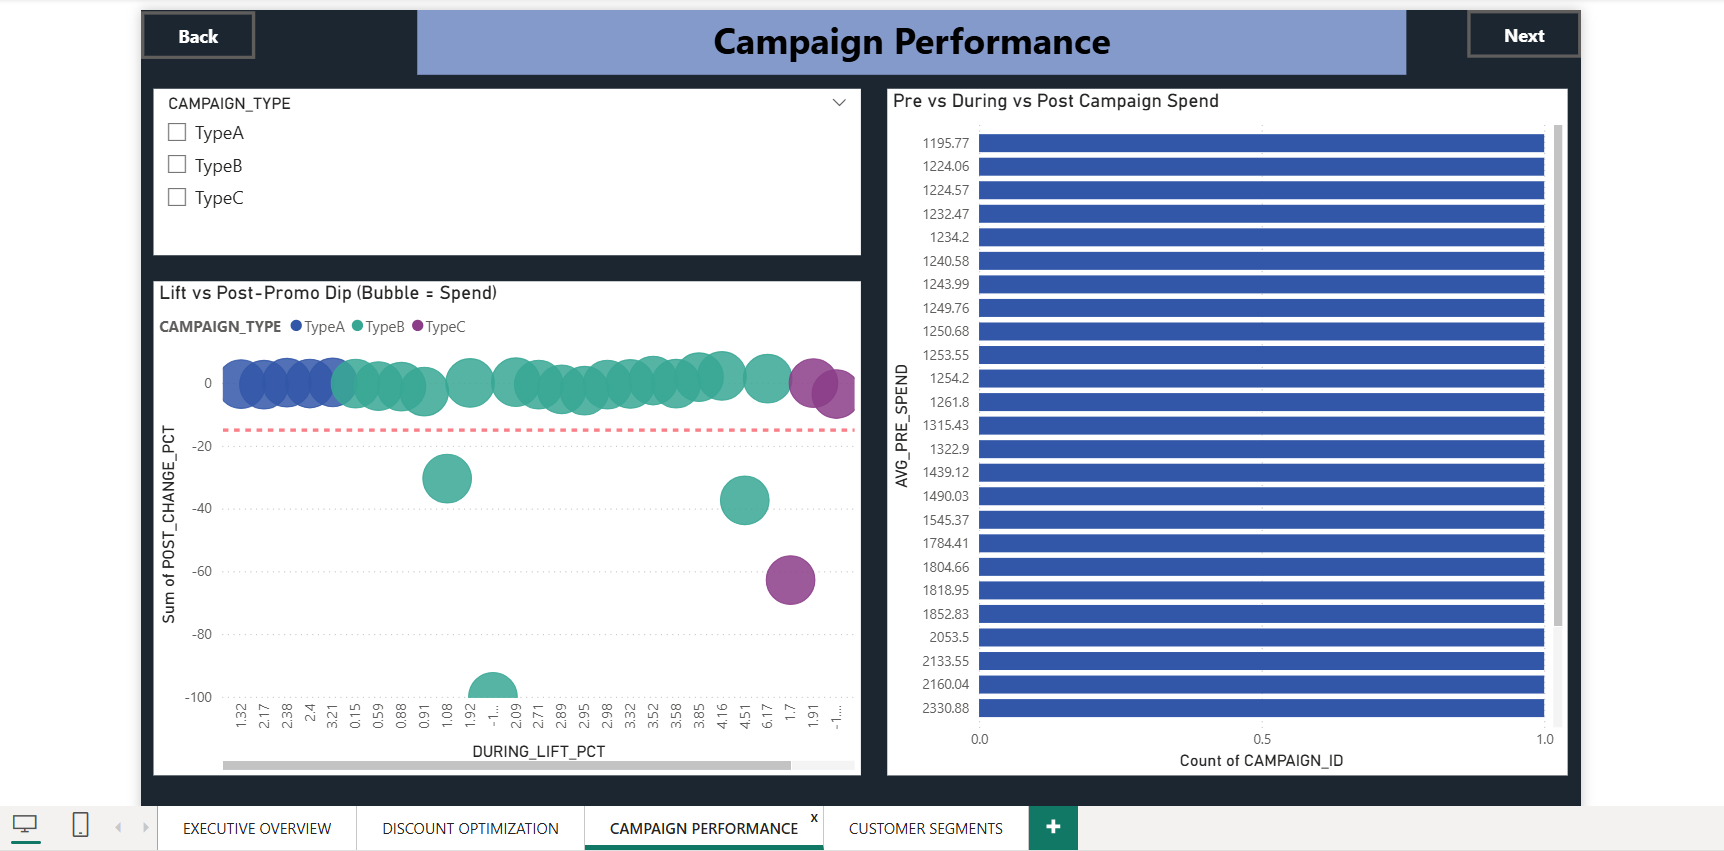

The dashboard page shown, as its layout file describes it:
{"tool":"powerbi","page":{"name":"CAMPAIGN PERFORMANCE","canvas":[1280,720],"ordinal":2},"visuals":[{"type":"clusteredBarChart","title":"Pre vs During vs Post Campaign Spend","fields":{"Y":["CountNonNull(mart_pantry_loading.CAMPAIGN_ID)"],"Category":["mart_pantry_loading.AVG_PRE_SPEND","mart_pantry_loading.AVG_DURING_SPEND","mart_pantry_loading.AVG_POST_SPEND"]},"box":[662.8,70,605.1,610.6],"z":0},{"type":"scatterChart","title":"Lift vs Post-Promo Dip (Bubble = Spend)","fields":{"X":["mart_pantry_loading.DURING_LIFT_PCT"],"Y":["Sum(mart_pantry_loading.POST_CHANGE_PCT)"],"Series":["mart_pantry_loading.CAMPAIGN_TYPE"],"Size":["CountNonNull(mart_pantry_loading.AVG_DURING_SPEND)"]},"box":[11,241.5,628.5,439.1],"z":1000},{"type":"slicer","fields":{"Values":["mart_pantry_loading.CAMPAIGN_TYPE"]},"box":[11,70,628.5,148.2],"z":2000},{"type":"actionButton","box":[1178.5,0,101.5,42.5],"z":3000},{"type":"textbox","box":[245.6,0,879.6,57.6],"z":3001},{"type":"actionButton","box":[0,1.4,101.5,42.5],"z":3002}]}

Visuals, with their boxes in screenshot pixels (x1, y1, x2, y2):
"Pre vs During vs Post Campaign Spend" clusteredBarChart: 882,83,1564,771
"Lift vs Post-Promo Dip (Bubble = Spend)" scatterChart: 147,277,855,771
slicer - mart_pantry_loading.CAMPAIGN_TYPE: 147,83,855,250
actionButton: 1463,4,1577,52
textbox: 411,4,1403,69
actionButton: 135,6,249,54
